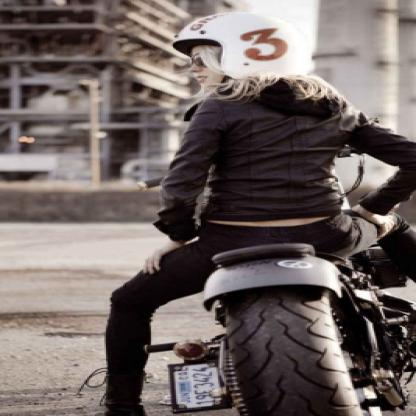helmet: (173, 10, 302, 92)
